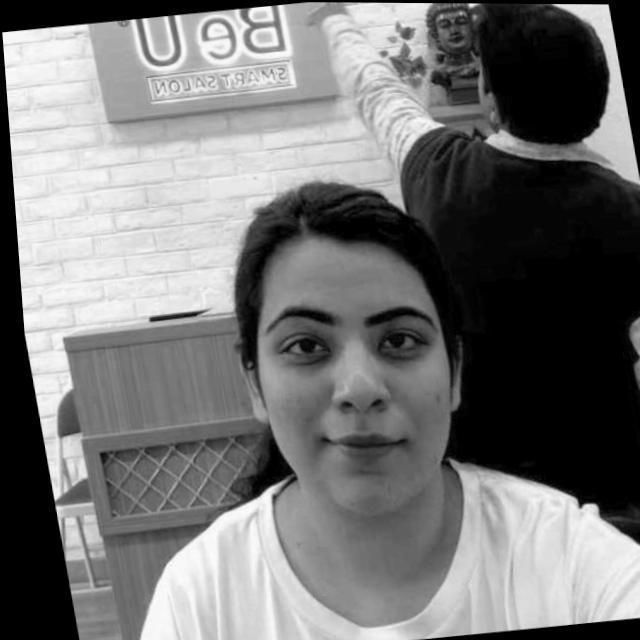puffy_eyes: (274, 351, 323, 362), (376, 348, 418, 358)
